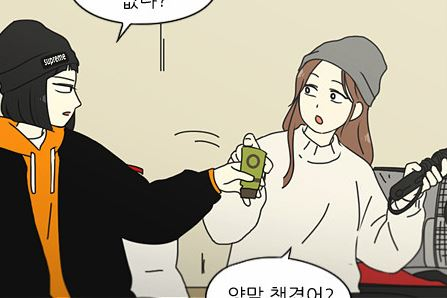hat: (296, 29, 392, 108), (1, 17, 82, 92)
